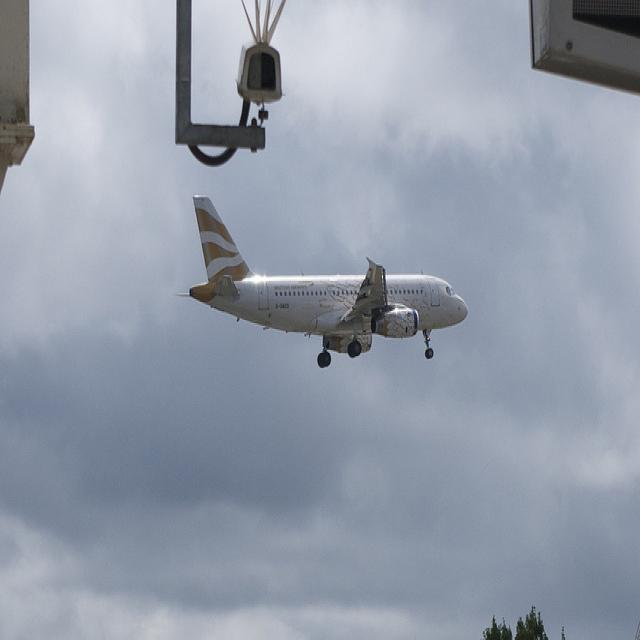airplane: (171, 193, 471, 370)
